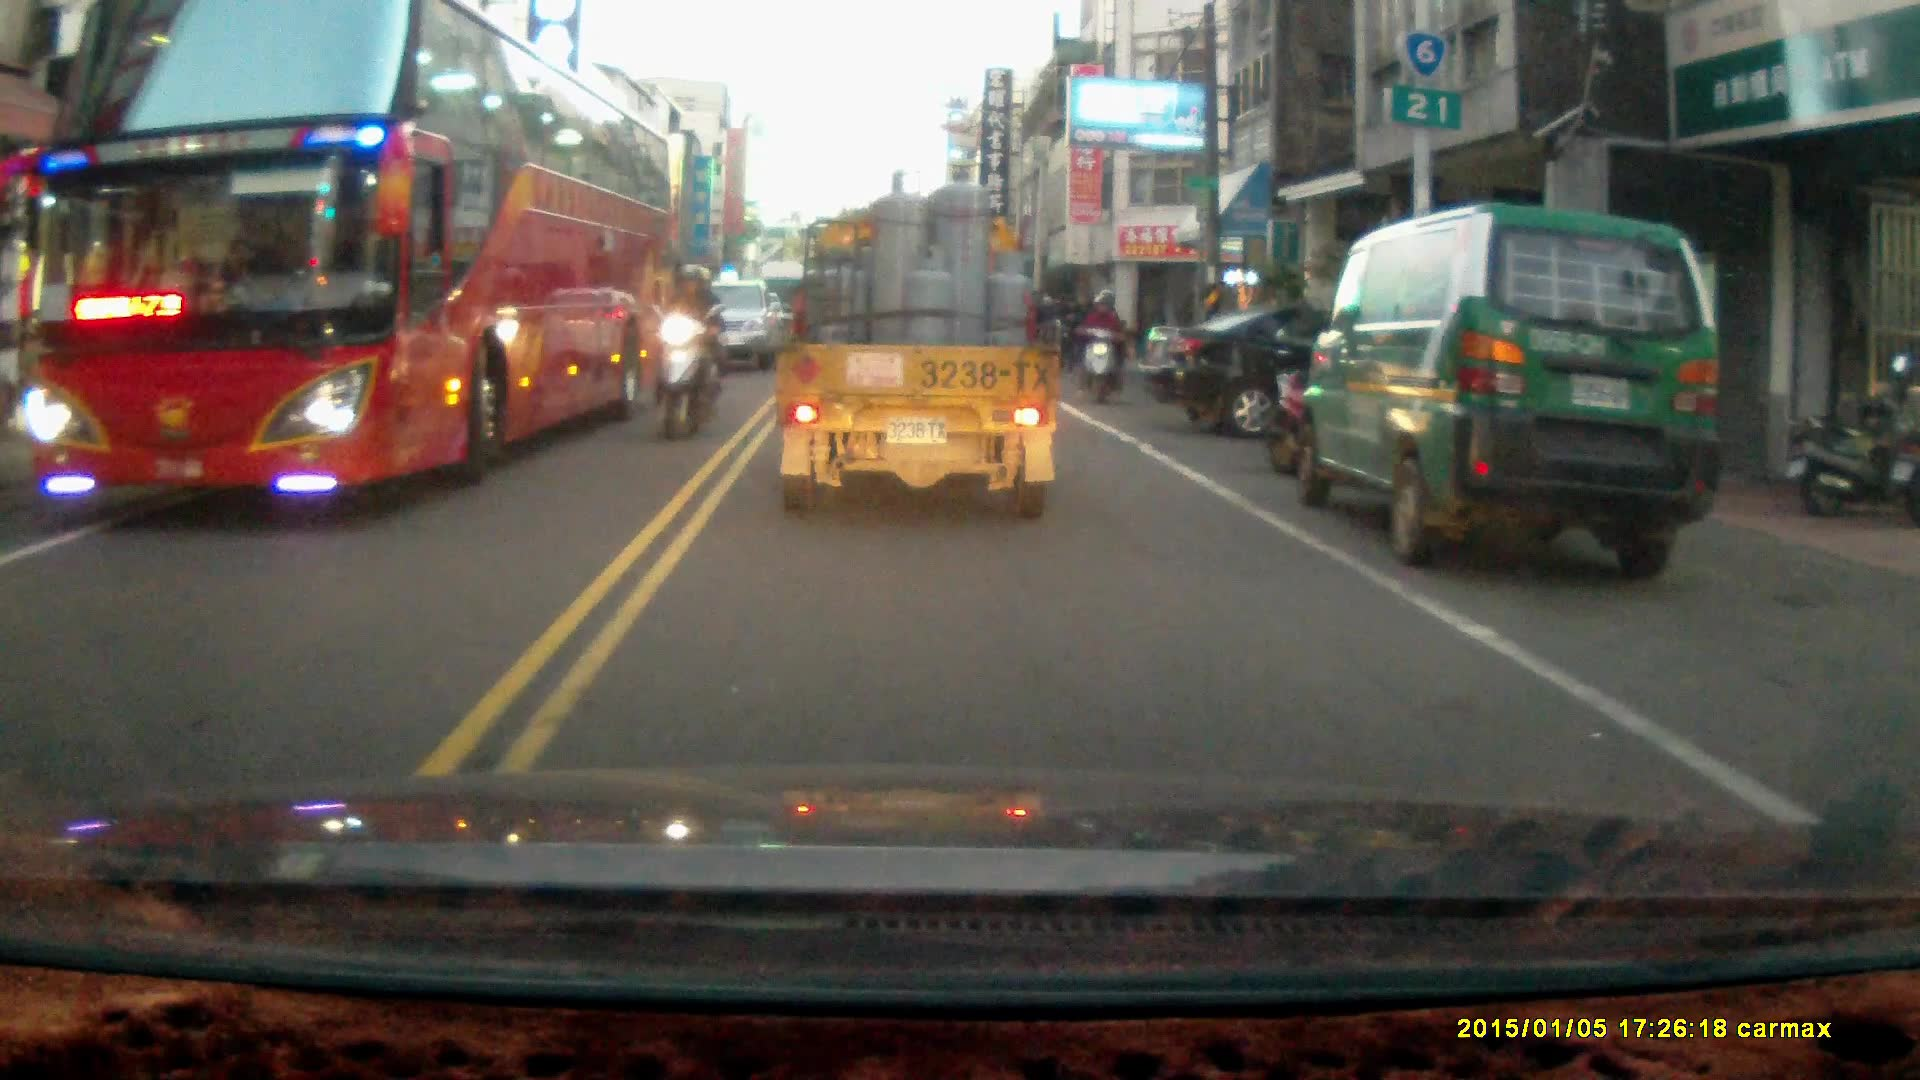rider: (646, 262, 724, 442), (1072, 287, 1126, 403)
vehicle: (21, 15, 673, 516), (1297, 197, 1724, 578), (775, 161, 1062, 522), (1146, 301, 1467, 440), (675, 277, 791, 377)
